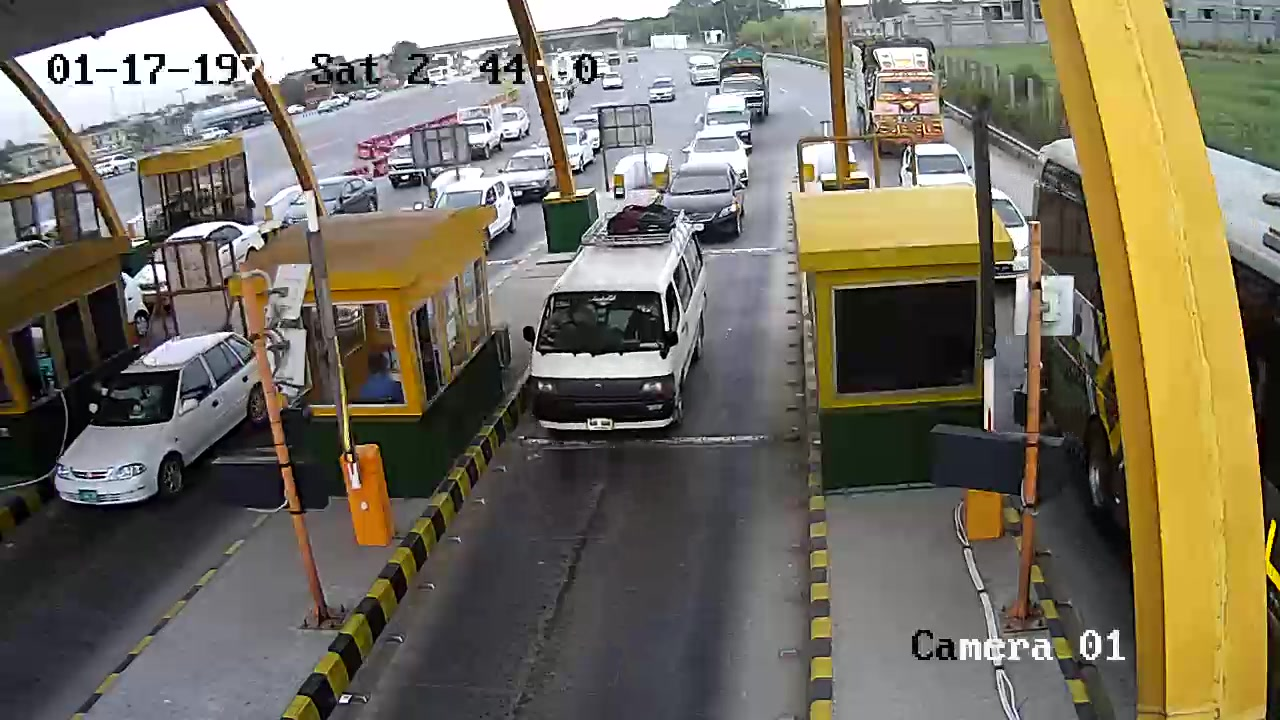F3: (532, 205, 722, 445)
